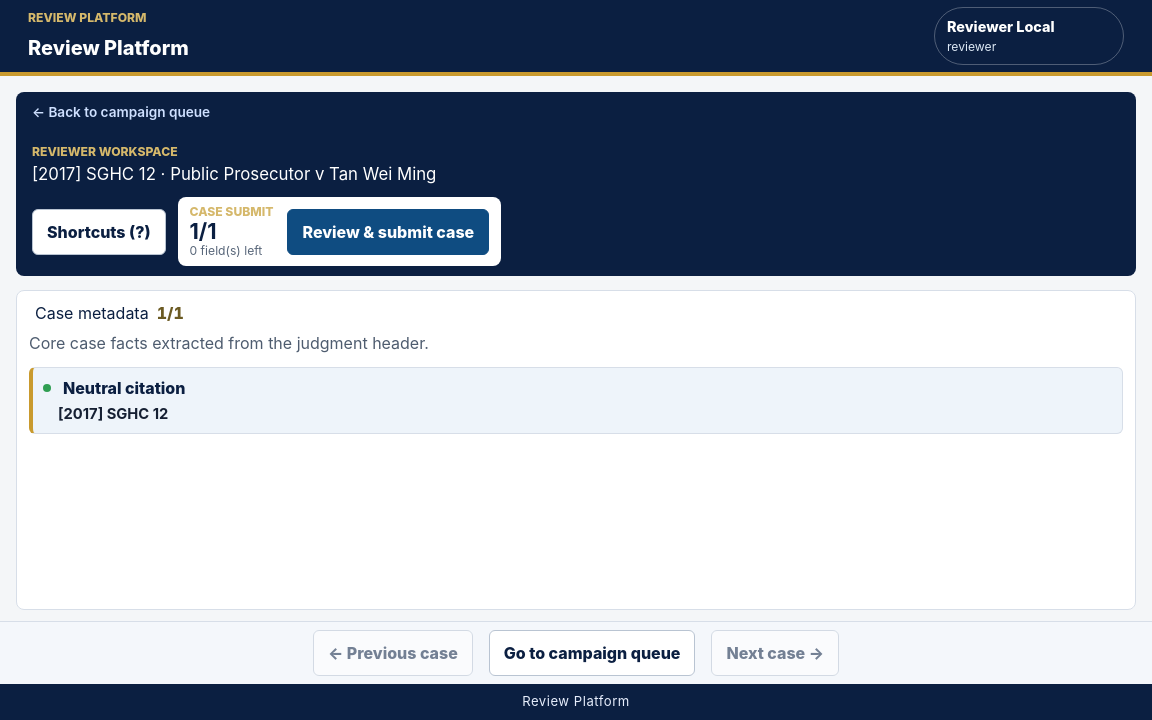
Test case: reviewer workflows › closes the case-submit preview via the X button without submitting the case
Expected: the heading "[2017] SGHC 12 · Public Prosecutor v Tan Wei Ming" is shown, [32,164,436,184]
What coordinates should you click on to do the following:
click the button "Review & submit case"
I would click on:
 (388, 232)
Its box is [288,209,489,255].
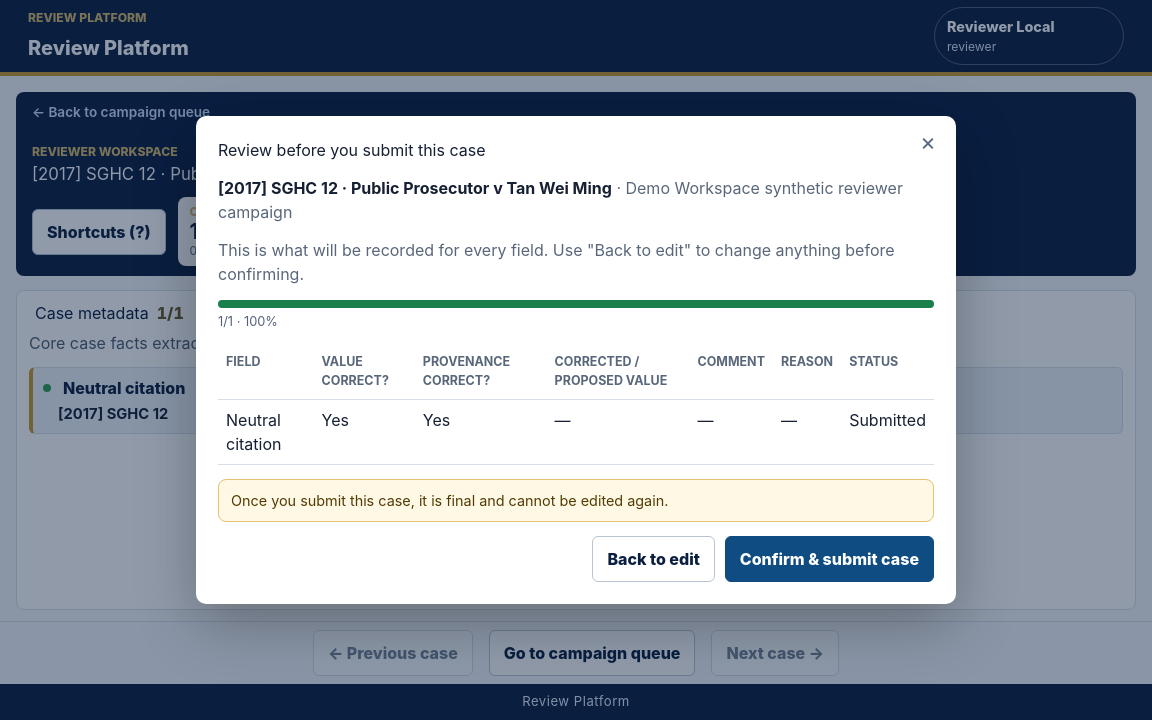
Expected: the dialog is shown, [196,116,956,604]
What coordinates should you click on to do the following:
click the button named "close"
I would click on:
 (928, 142)
Its box is [912,128,944,156].
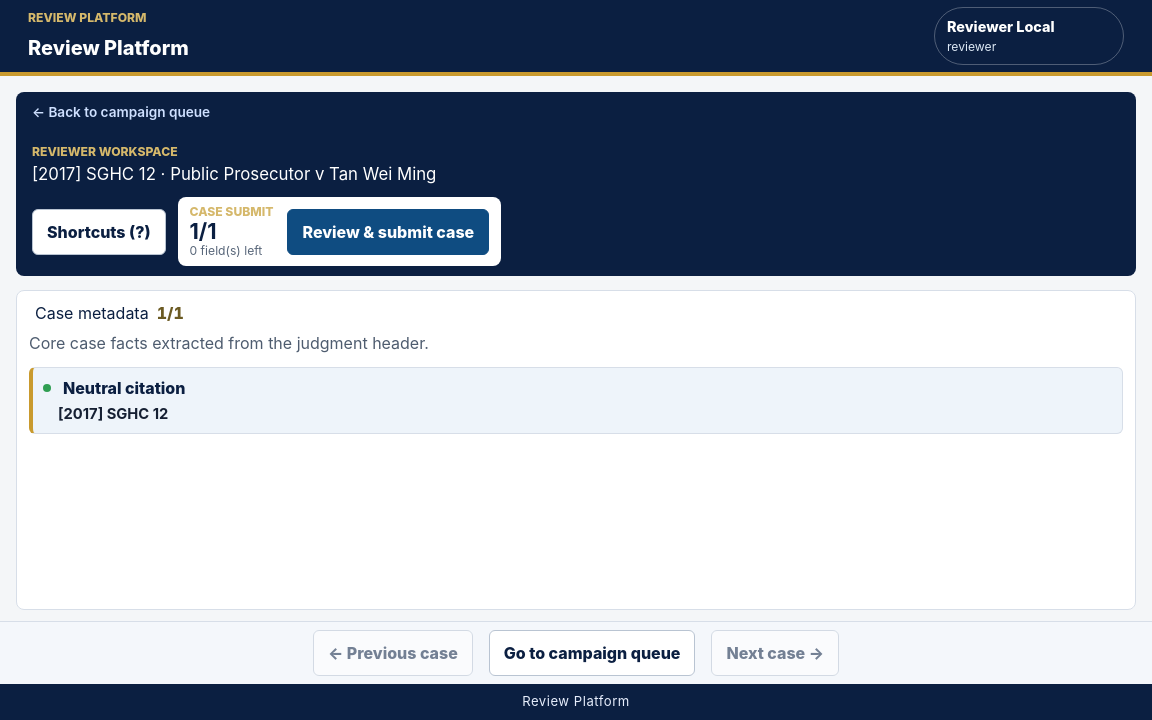
Expected: the dialog is gone
